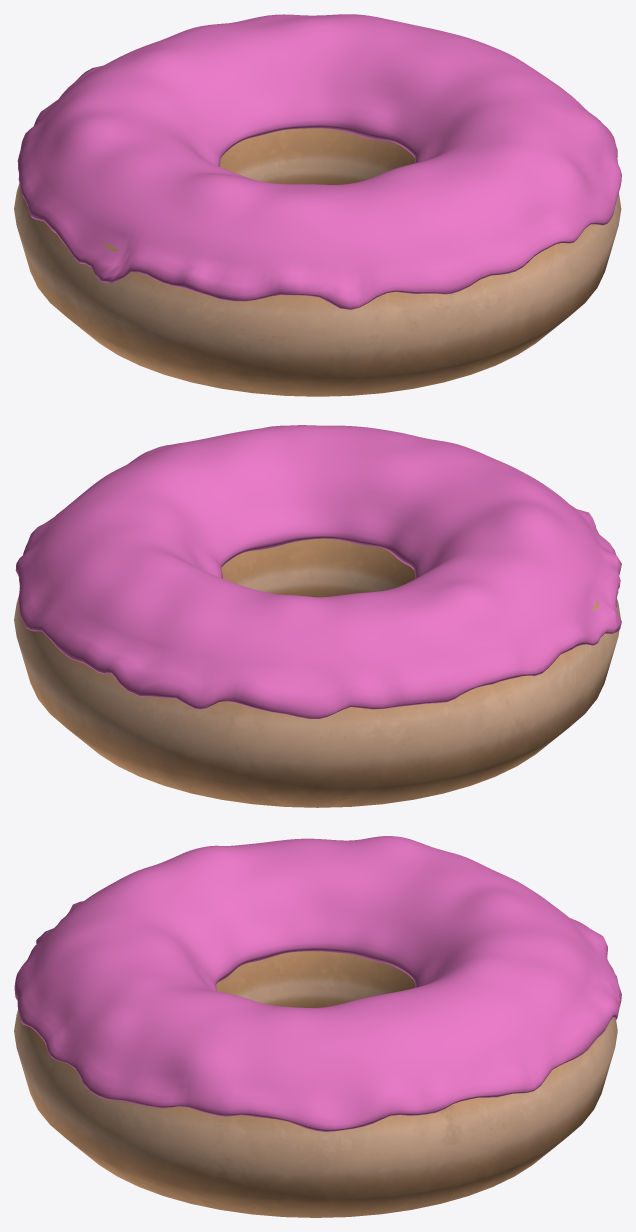
Rendered from DonutChoco.fbx.
3 renders of one model, top to bottom at view 1: azimuth 30°, elevation 25°; view 2: azimuth 150°, elevation 25°; view 3: azimuth 270°, elevation 25°, orthographic.
Parts seen in each view (by area): view 1: Donut; view 2: Donut; view 3: Donut.
Boxes of the visible parts, x1,y1,x2,y2 form: Donut: (14,14,621,396); Donut: (14,425,621,807); Donut: (14,836,621,1217).
Size of the model in its own units: 305 by 111 by 306.
